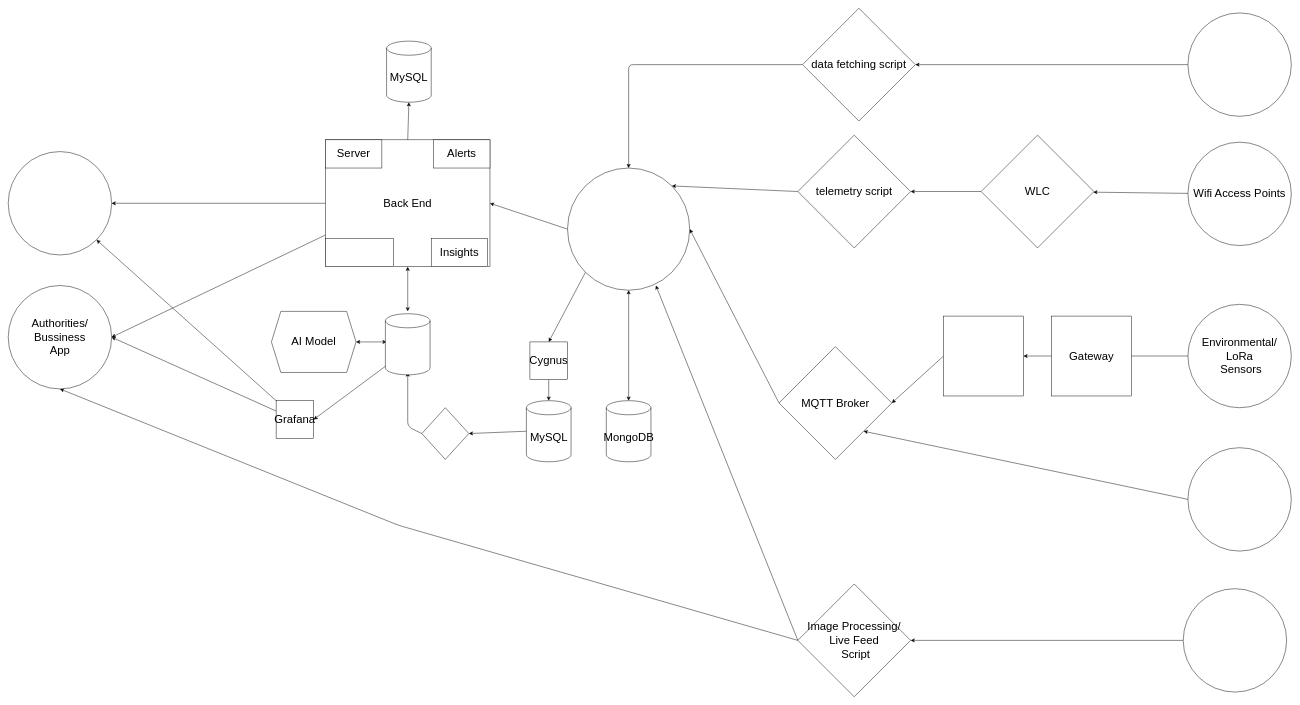
This 1300x705 diagram has some shape labels left out. The centre of each missing label's shape, as x and y in pixels:
"Bluetooth Sensors" belongs at point (1239, 499).
"Cameras" belongs at point (1235, 640).
"CItizens App" belongs at point (60, 203).
"Context Broker" belongs at point (628, 229).
"Google PLaces API" belongs at point (1239, 64).
"InfluxDB" belongs at point (407, 344).
"LNS" belongs at point (983, 356).
"Suggestions" belongs at point (359, 252).
"Sync Agent" belongs at point (445, 433).
